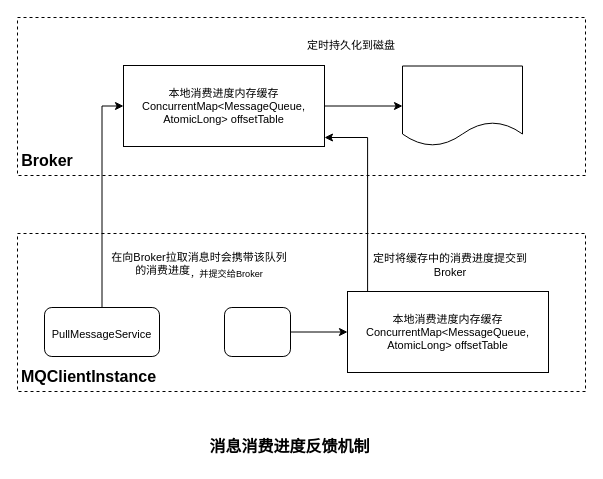
This 603x479 diagram has some shape labels left out. Here are the shapes that lost their labels. From the top down, the centre of each, then its label:
point (462, 105): 消费进度文件 consumerOffset.json
point (257, 331): 消费线程
